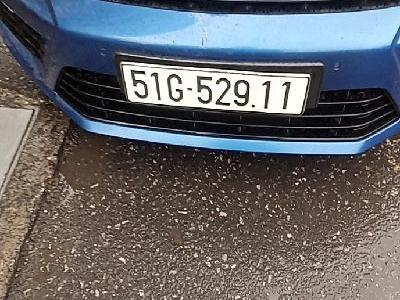lisence: (117, 59, 312, 120)
